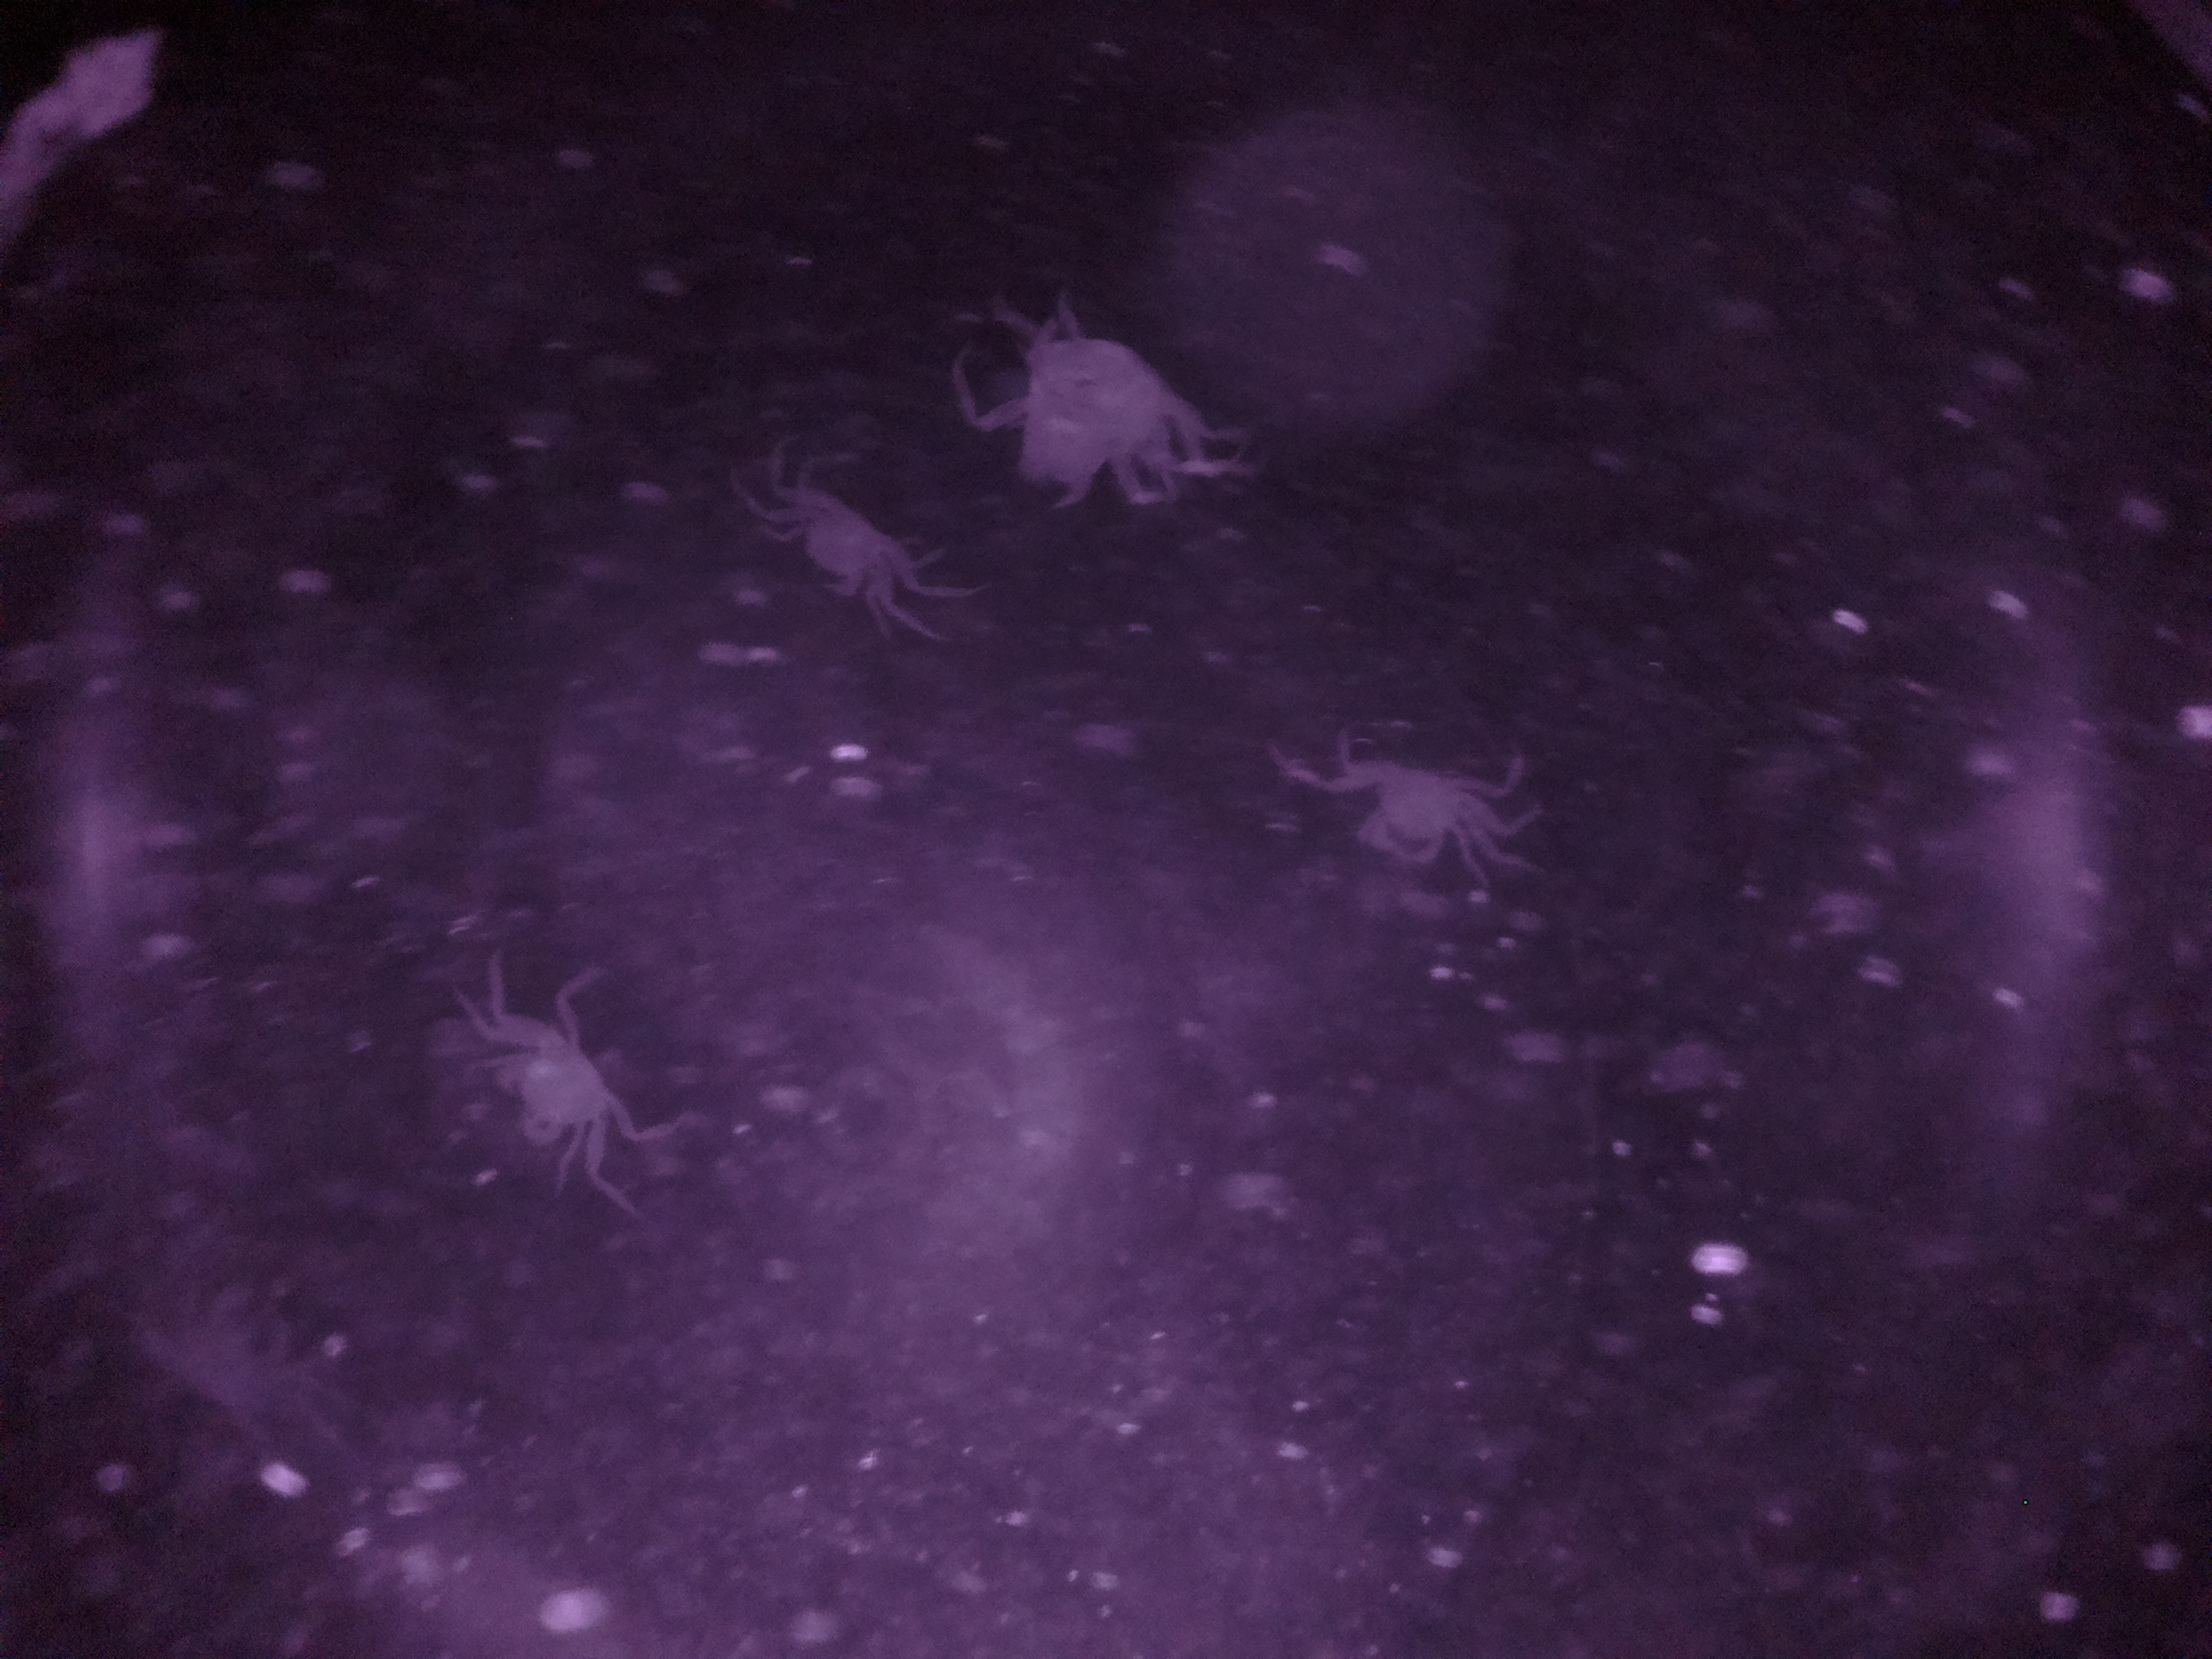Crab: (463, 1007, 646, 1173), (766, 465, 942, 622), (1303, 741, 1505, 871)
